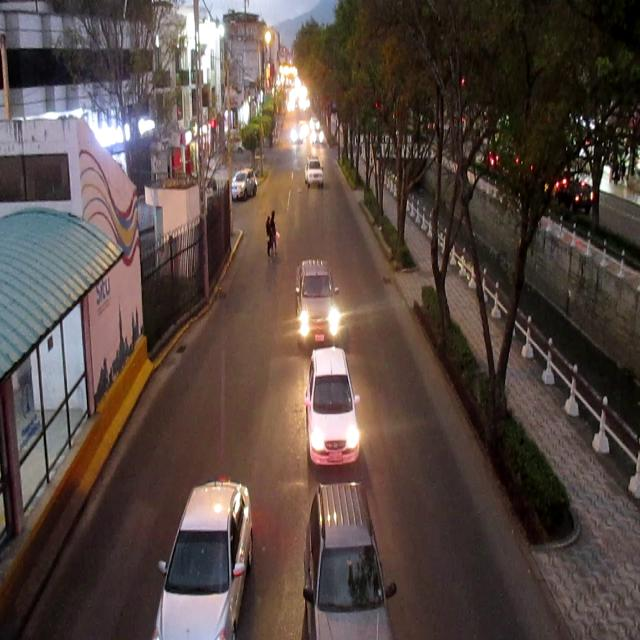SUV: (304, 486, 398, 640), (233, 170, 257, 200)
